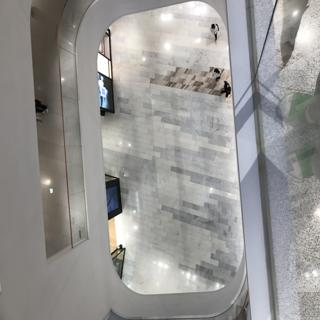person: (207, 16, 221, 47), (217, 82, 235, 105)
